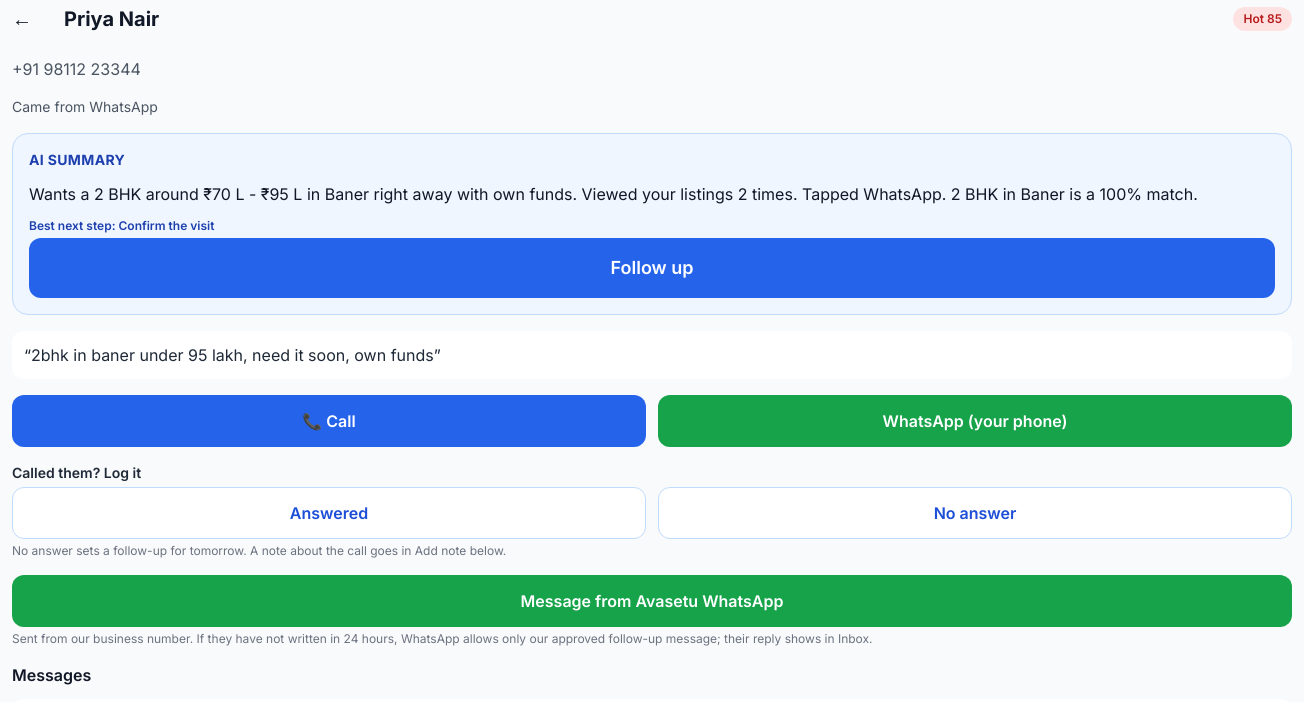
Test: LeadDetailView › follow up next action opens the draft (site_visit stage lead)
Click the button "Follow up". click: (652, 268)
box: 29,238 -> 1275,298
(page scrolled)
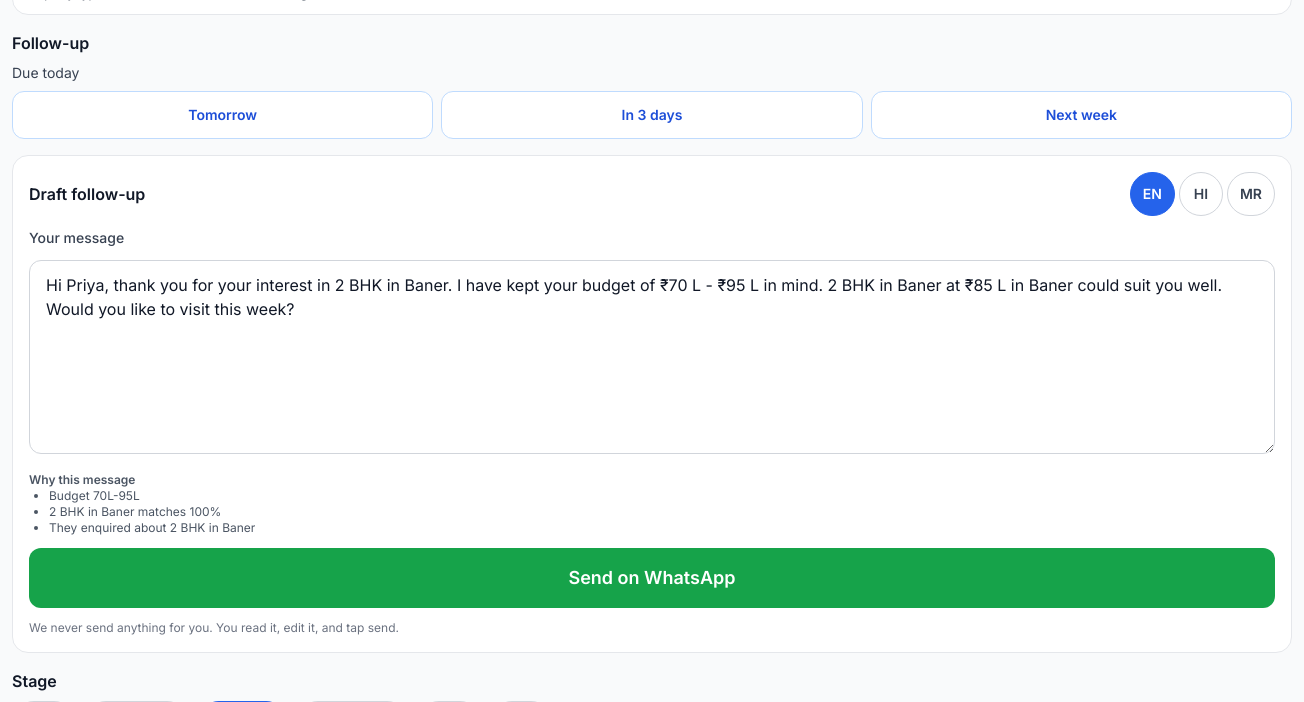
Now the text box labelled "Your message" is shown, box 29,260 -> 1275,454
